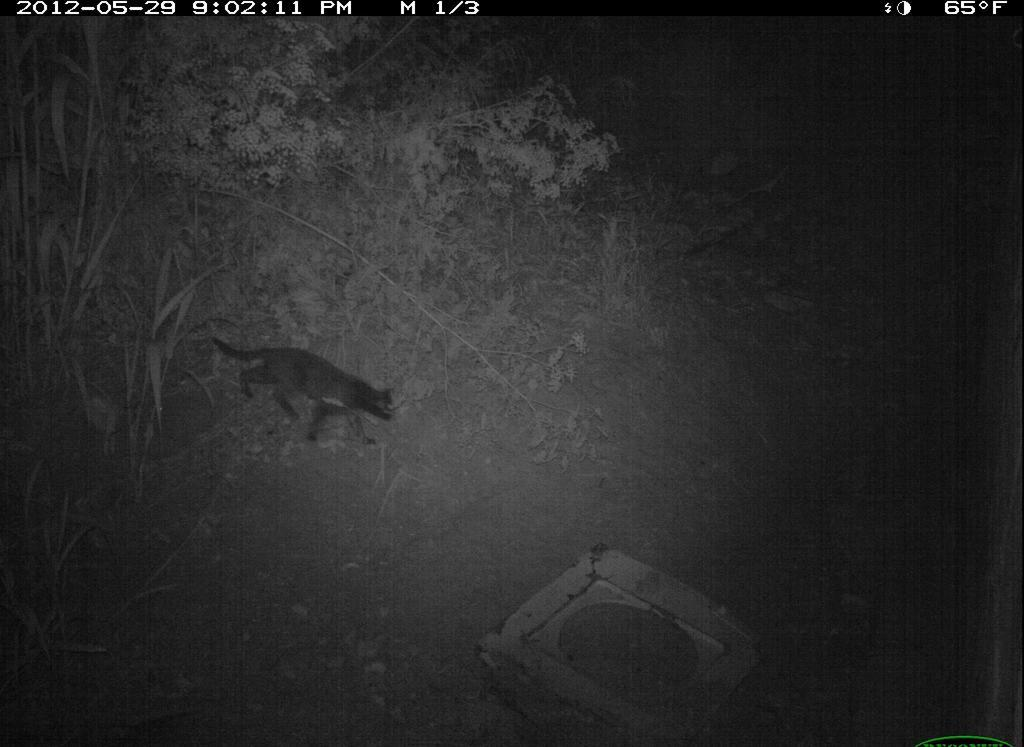cat: (207, 326, 404, 449)
